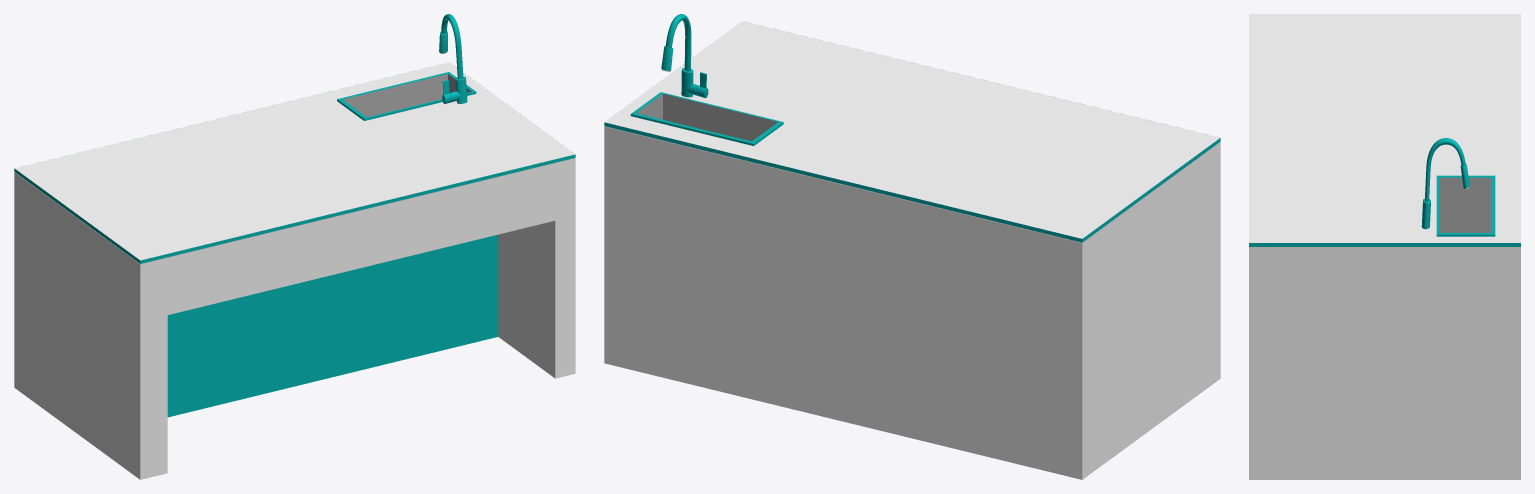
The model's file is table_Nov26.glb.
3 views of the same model, side by side, from view 1: azimuth 30°, elevation 25°; view 2: azimuth 150°, elevation 25°; view 3: azimuth 270°, elevation 25° (orthographic). The views are drawn at different scales.
Parts seen in each view (by area): view 1: table3; view 2: table3; view 3: table3.
Part boxes in pixels (x1,y1,x2,y2): table3: (14,14,575,479); table3: (604,14,1220,479); table3: (1249,14,1520,479).
Size of the model in its own units: 1.52 by 1 by 0.762.
